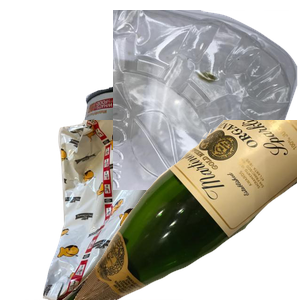glass: (60, 120, 300, 300)
metal: (60, 82, 300, 262)
plastic: (113, 10, 300, 190)
trash: (25, 120, 198, 300)
